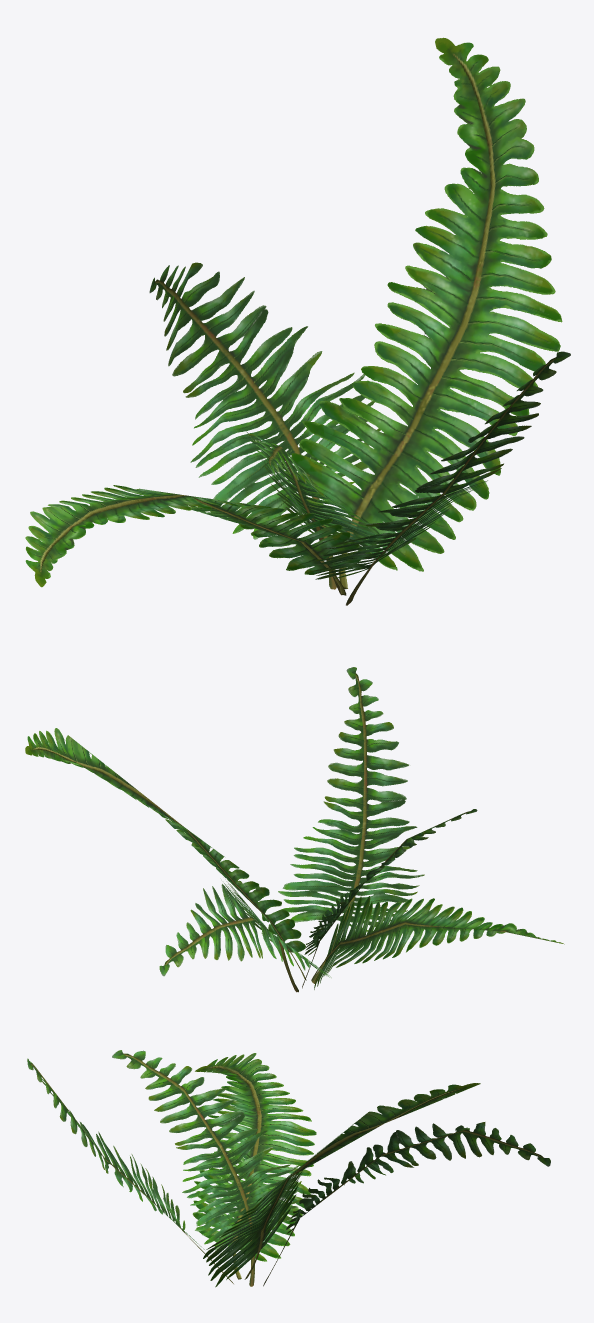
The model's file is fern_Small_5_Bladed.FBX.
The picture shows the model from 3 angles, top to bottom: view 1: azimuth 30°, elevation 25°; view 2: azimuth 150°, elevation 25°; view 3: azimuth 270°, elevation 25°; orthographic projection. The views are drawn at different scales.
Visible parts, largest first — view 1: fernBlade01, fernBlade02, fernBlade03, fernBlade04, fernBlade05; view 2: fernBlade04, fernBlade03, fernBlade01, fernBlade02, fernBlade05; view 3: fernBlade05, fernBlade03, fernBlade01, fernBlade02, fernBlade04.
Boxes of the visible parts, box(x1,y1,x2,y2) form: fernBlade01: box(286, 37, 562, 589); fernBlade02: box(149, 262, 380, 589); fernBlade03: box(25, 485, 360, 595); fernBlade04: box(310, 351, 570, 605); fernBlade05: box(245, 430, 386, 595); fernBlade04: box(278, 667, 424, 983); fernBlade03: box(311, 896, 564, 989); fernBlade01: box(25, 728, 306, 980); fernBlade02: box(159, 879, 331, 992); fernBlade05: box(302, 809, 477, 988); fernBlade05: box(112, 1050, 301, 1286); fernBlade03: box(192, 1053, 316, 1279); fernBlade01: box(203, 1083, 480, 1287); fernBlade02: box(263, 1122, 550, 1286); fernBlade04: box(27, 1058, 233, 1283).
Size of the model in its own units: 62.94 by 38.47 by 64.08.
